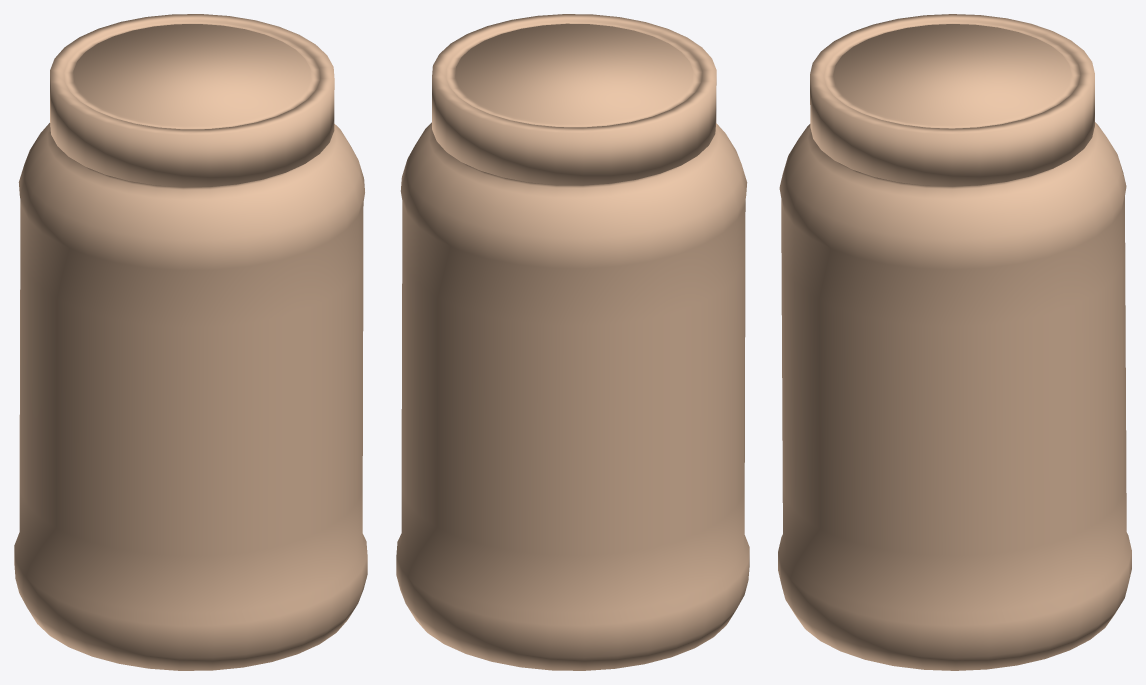
Rendered from PeanutButterJar.fbx.
3 renders of one model, left to right at view 1: azimuth 30°, elevation 25°; view 2: azimuth 150°, elevation 25°; view 3: azimuth 270°, elevation 25°, orthographic.
Parts seen in each view (by area): view 1: PeanutButterJar; view 2: PeanutButterJar; view 3: PeanutButterJar.
Boxes of the visible parts, <box> form: PeanutButterJar: <box>14,14,367,670</box>; PeanutButterJar: <box>396,14,749,670</box>; PeanutButterJar: <box>778,14,1131,670</box>.
Size of the model in its own units: 56.66 by 93.55 by 56.68.
